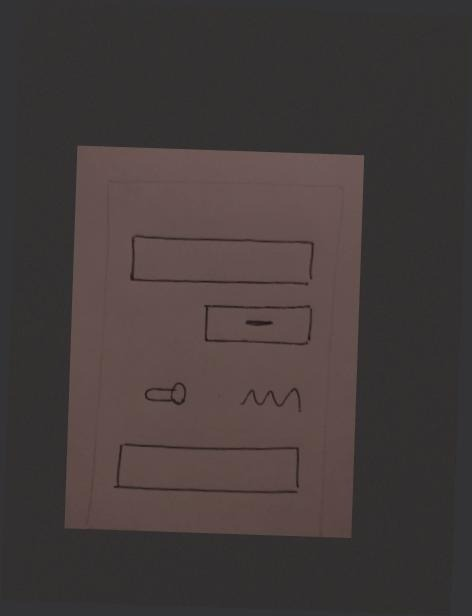button: (198, 298, 318, 355)
switch: (140, 376, 192, 412)
text: (229, 378, 308, 417)
text_input: (107, 438, 305, 505), (126, 230, 321, 295)
